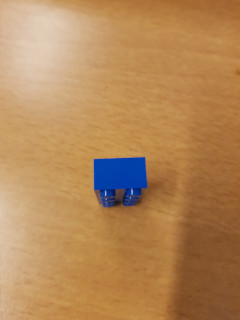2x4 blue: (91, 154, 149, 210)
